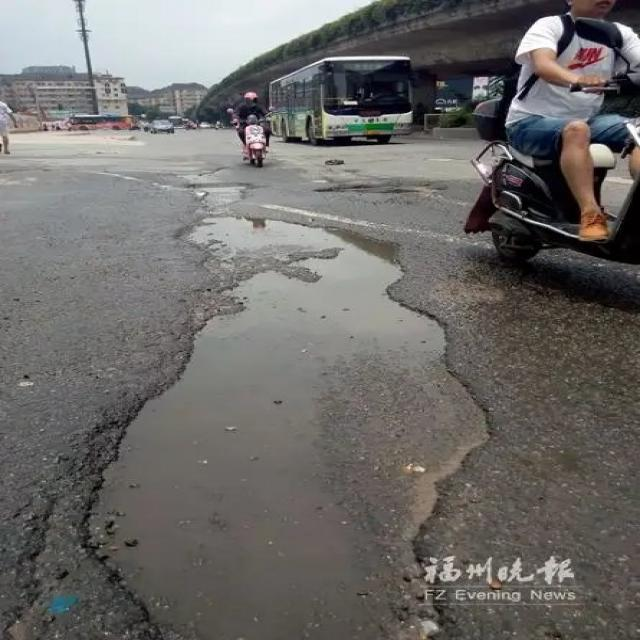pothole: (65, 214, 502, 639), (171, 168, 258, 213), (324, 184, 451, 200)
